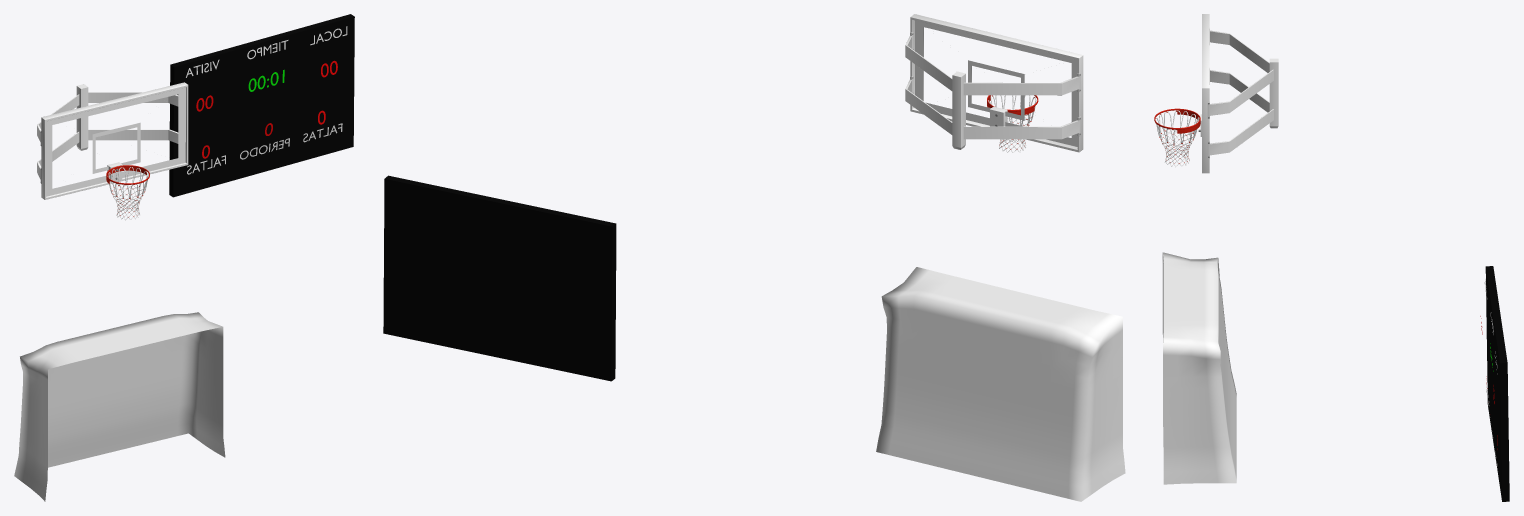
File: ARCO_UPDS.glb
3 views of the same model, side by side, from view 1: azimuth 30°, elevation 25°; view 2: azimuth 150°, elevation 25°; view 3: azimuth 270°, elevation 25° (orthographic). The views are drawn at different scales.
Parts seen in each view (by area): view 1: Net_Sim, Cubo, CANASTA, Object03; view 2: Net_Sim, Cubo, CANASTA, Object03; view 3: Net_Sim, CANASTA, Cubo.
Part boxes in pixels (<box>): Net_Sim: <box>14,312,225,501</box>; Cubo: <box>169,14,354,197</box>; CANASTA: <box>37,82,188,220</box>; Object03: <box>46,87,185,196</box>; Net_Sim: <box>876,267,1125,501</box>; Cubo: <box>383,175,616,381</box>; CANASTA: <box>905,14,1083,152</box>; Object03: <box>915,20,1077,146</box>; Net_Sim: <box>1162,252,1236,484</box>; CANASTA: <box>1154,14,1278,173</box>; Cubo: <box>1485,266,1509,501</box>.
Size of the model in its own units: 7.13 by 5.31 by 4.42.
